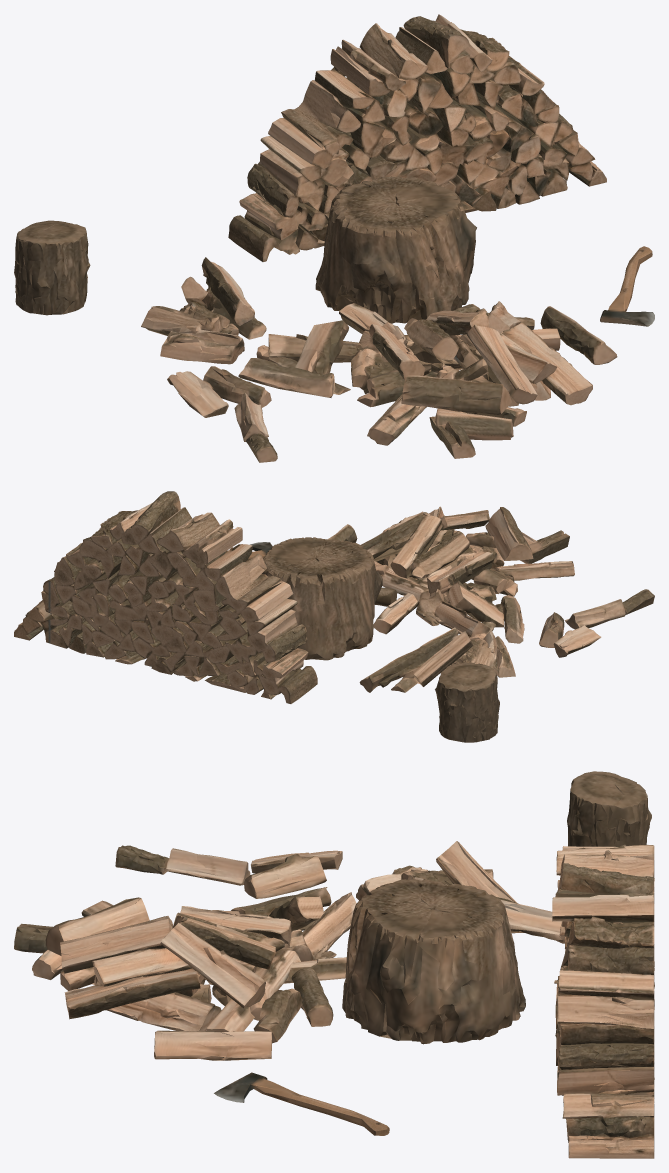
File: o00_odun_yigini_kutuk.glb
3 renders of one model, top to bottom at view 1: azimuth 30°, elevation 25°; view 2: azimuth 150°, elevation 25°; view 3: azimuth 270°, elevation 25°, orthographic. The views are drawn at different scales.
Parts seen in each view (by area): view 1: output_unwrapped; view 2: output_unwrapped; view 3: output_unwrapped.
Boxes of the visible parts, left/top/right/bottom form: output_unwrapped: left=14, top=14, right=654, bottom=462; output_unwrapped: left=14, top=491, right=654, bottom=742; output_unwrapped: left=14, top=771, right=654, bottom=1158.
Size of the model in its own units: 1.9 by 0.6031 by 1.65.
Materials: 1 (1 with a texture image).
